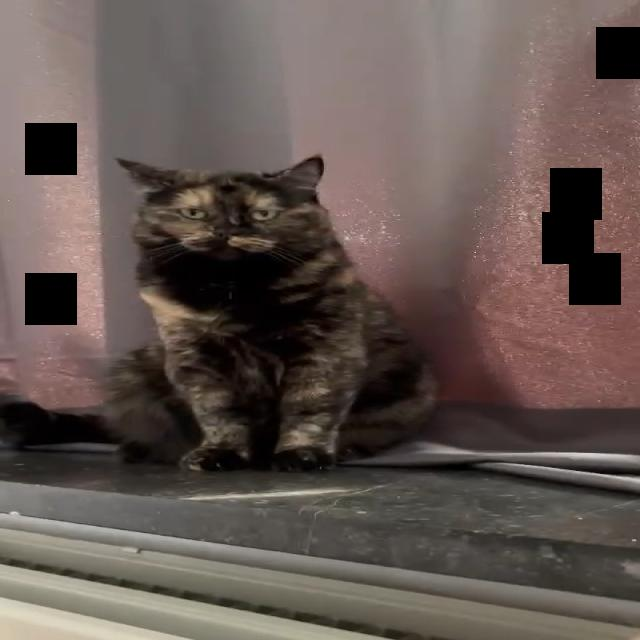authorized: (101, 152, 440, 472)
